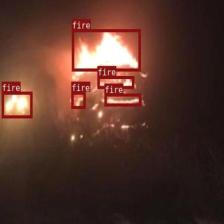fire: (71, 29, 140, 71), (1, 92, 32, 118), (97, 76, 134, 88), (104, 94, 141, 106), (71, 91, 85, 109)
